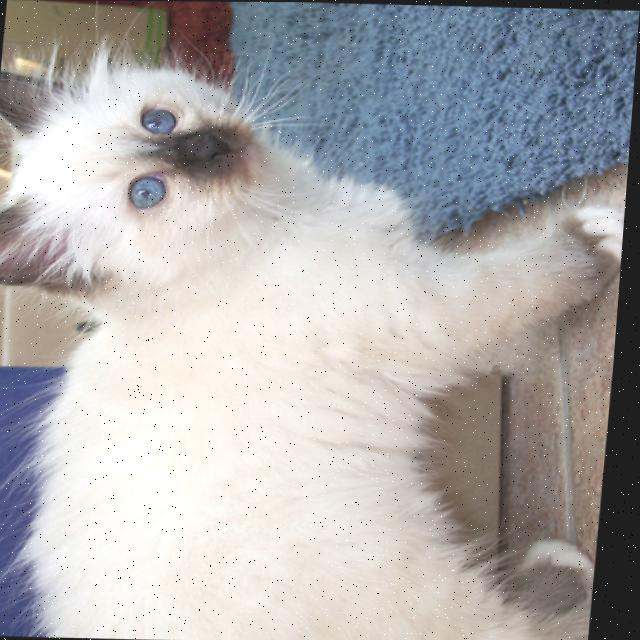Birman: (0, 54, 637, 640)
